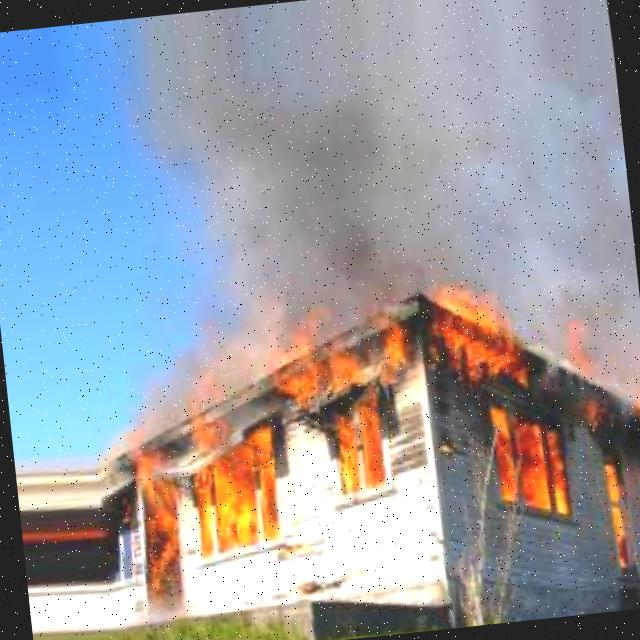fire: (168, 388, 285, 575), (265, 288, 419, 424), (418, 273, 542, 395), (113, 431, 189, 612), (480, 397, 569, 528), (329, 411, 391, 501), (599, 458, 633, 577), (556, 309, 596, 386), (572, 394, 616, 439), (630, 435, 640, 548)
